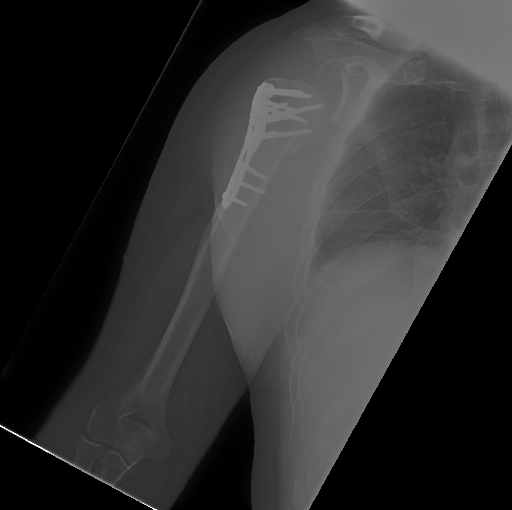implant: (219, 77, 321, 209)
